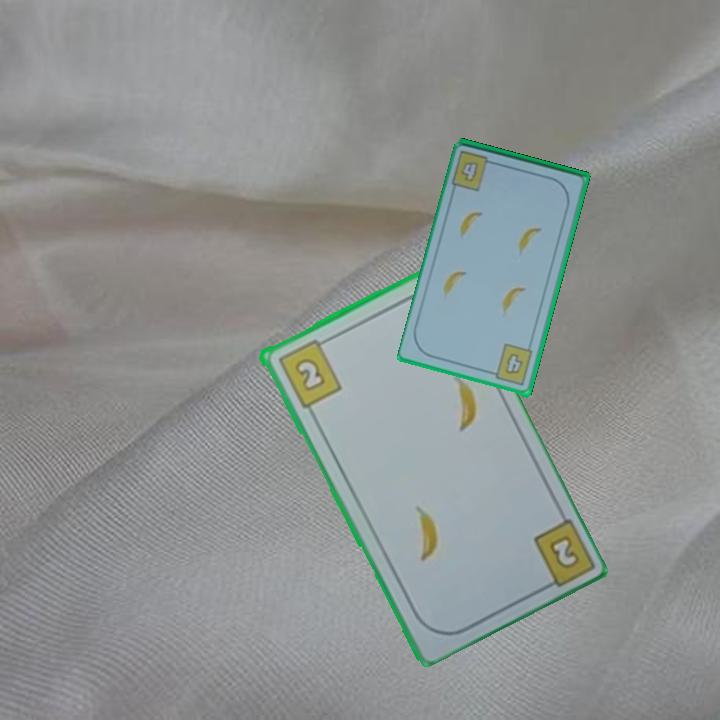2b: (274, 334, 344, 411), (544, 531, 582, 572)
4b: (448, 147, 500, 194), (486, 341, 536, 389)
